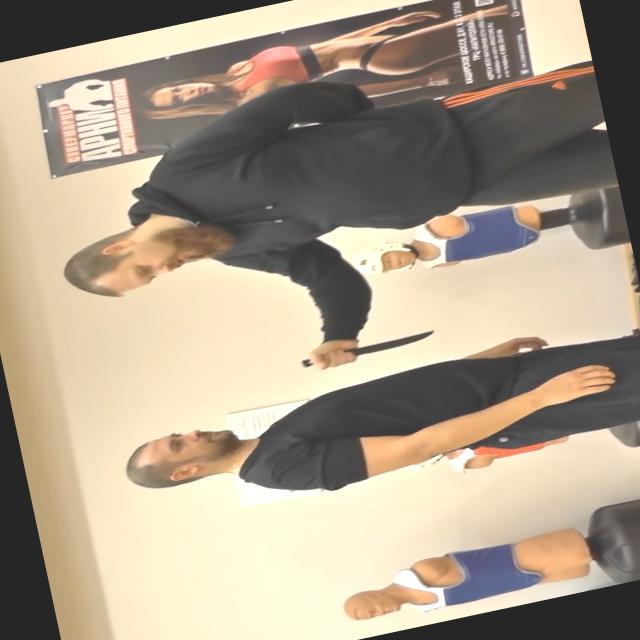knife: (292, 324, 440, 378)
